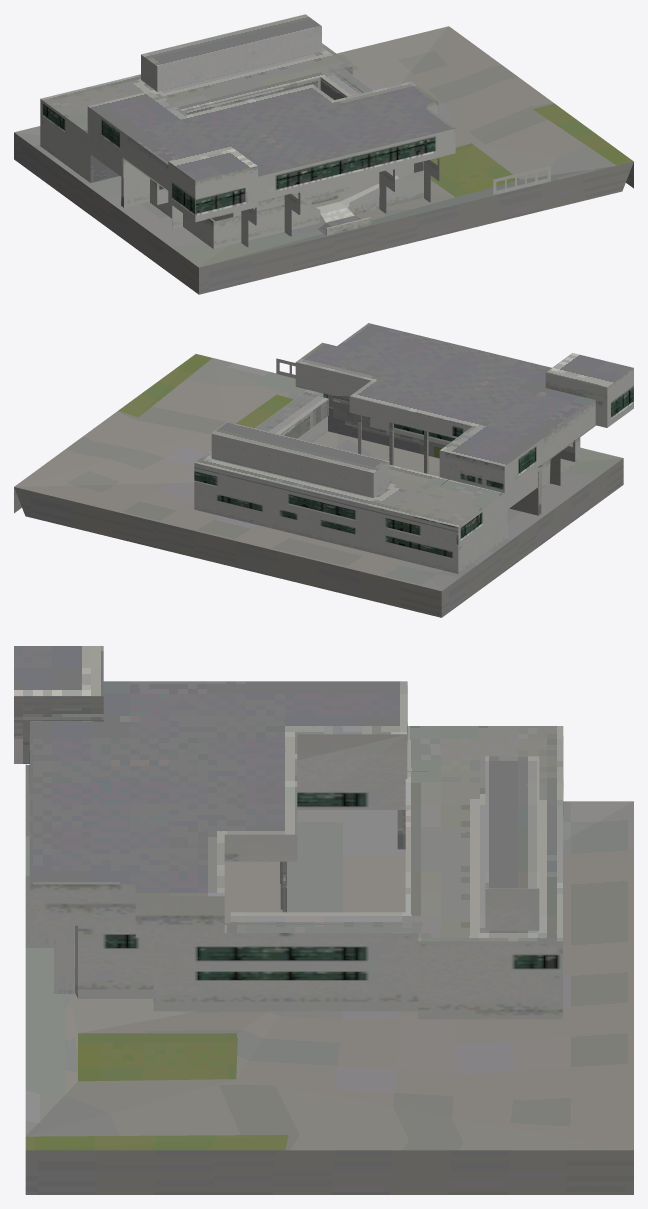
The model's file is lodgaz4_law.obj.
The picture shows the model from 3 angles, top to bottom: view 1: azimuth 30°, elevation 25°; view 2: azimuth 150°, elevation 25°; view 3: azimuth 270°, elevation 25°; orthographic projection. The views are drawn at different scales.
Visible parts, largest first — view 1: LODgaz4_LAW; view 2: LODgaz4_LAW; view 3: LODgaz4_LAW.
Boxes of the visible parts, x1,y1,x2,y2 form: LODgaz4_LAW: (14, 14, 633, 294); LODgaz4_LAW: (14, 323, 633, 617); LODgaz4_LAW: (14, 646, 633, 1194).
Bounding box in the file's own units: 130 × 33.27 × 96.33.
Materials: 5 (5 with a texture image).
